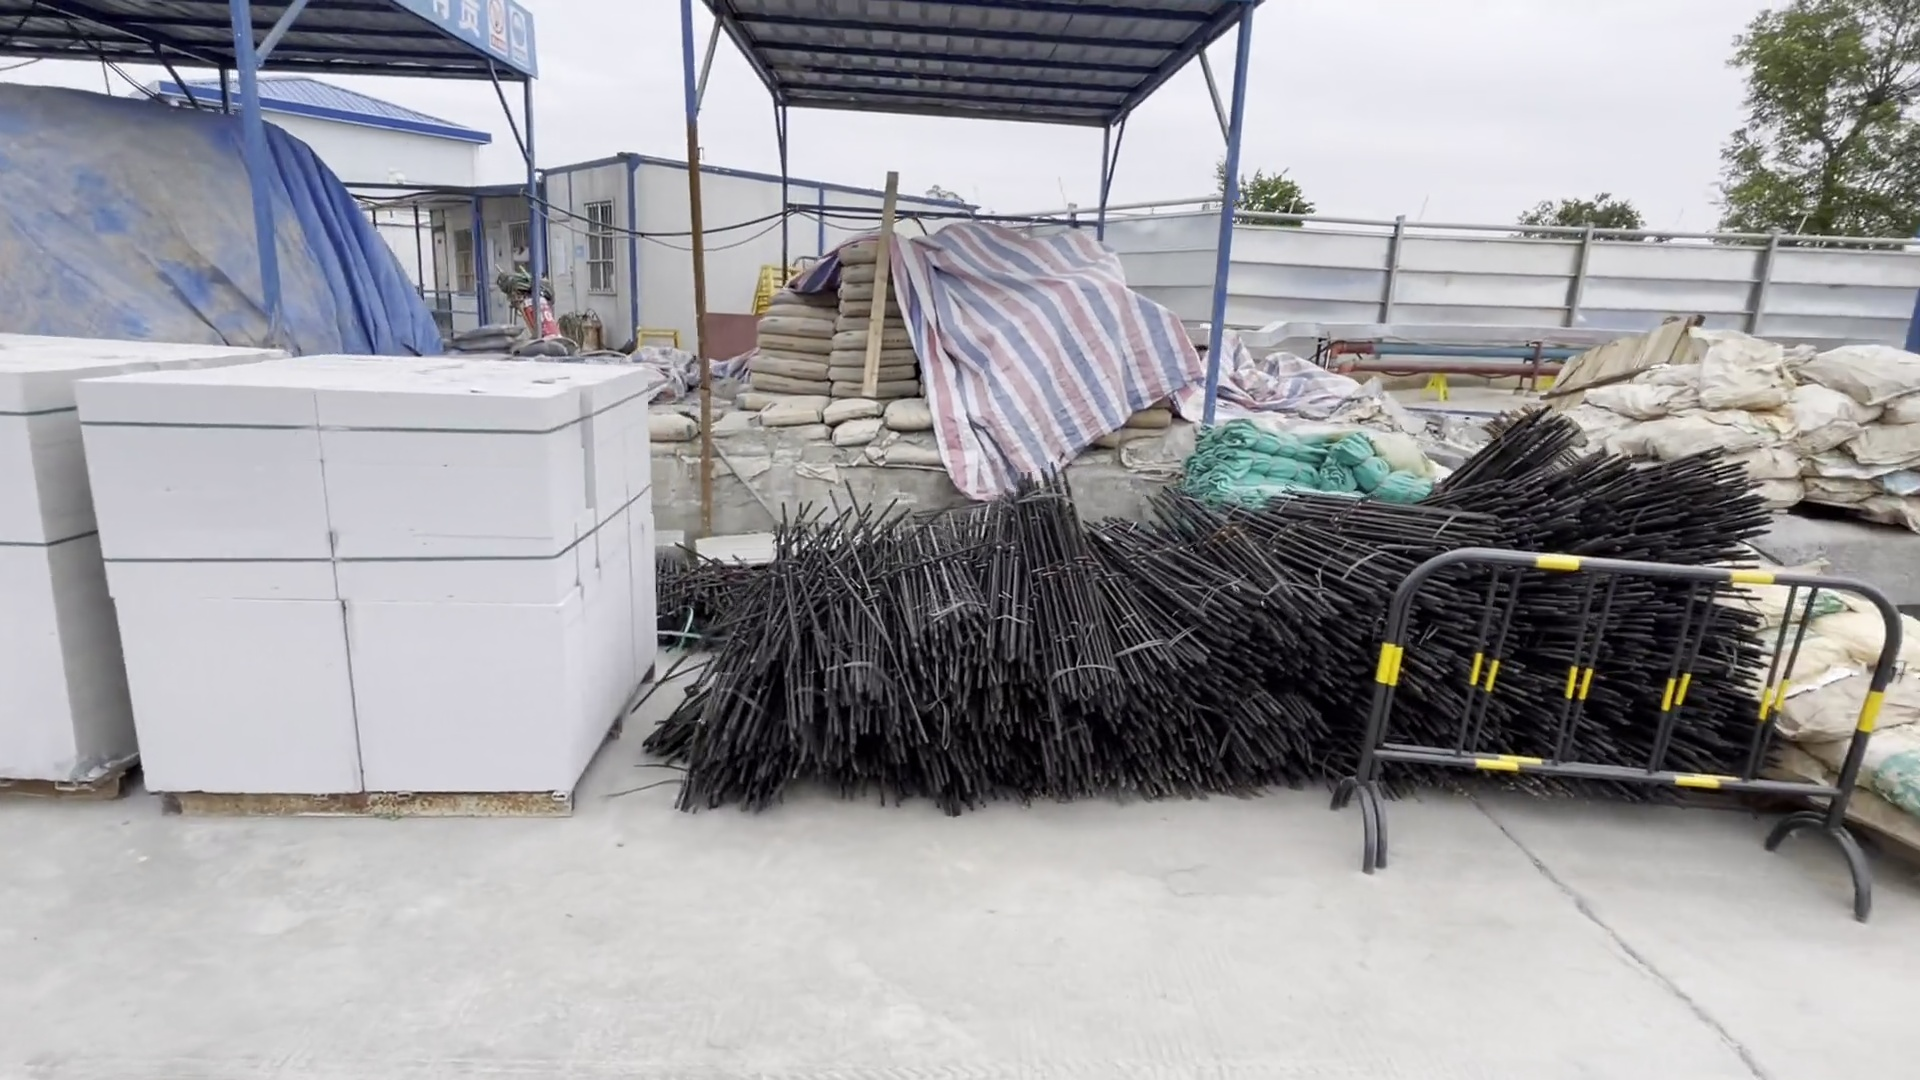brick: (120, 334, 678, 837), (1, 336, 248, 807)
